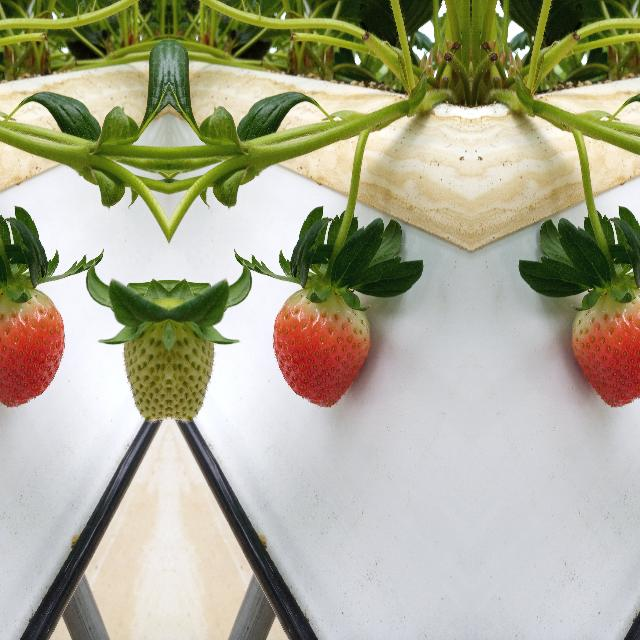Health_100: (272, 288, 371, 408), (570, 288, 640, 408), (0, 288, 64, 408)
Health_25: (168, 282, 218, 432), (118, 282, 168, 432)
